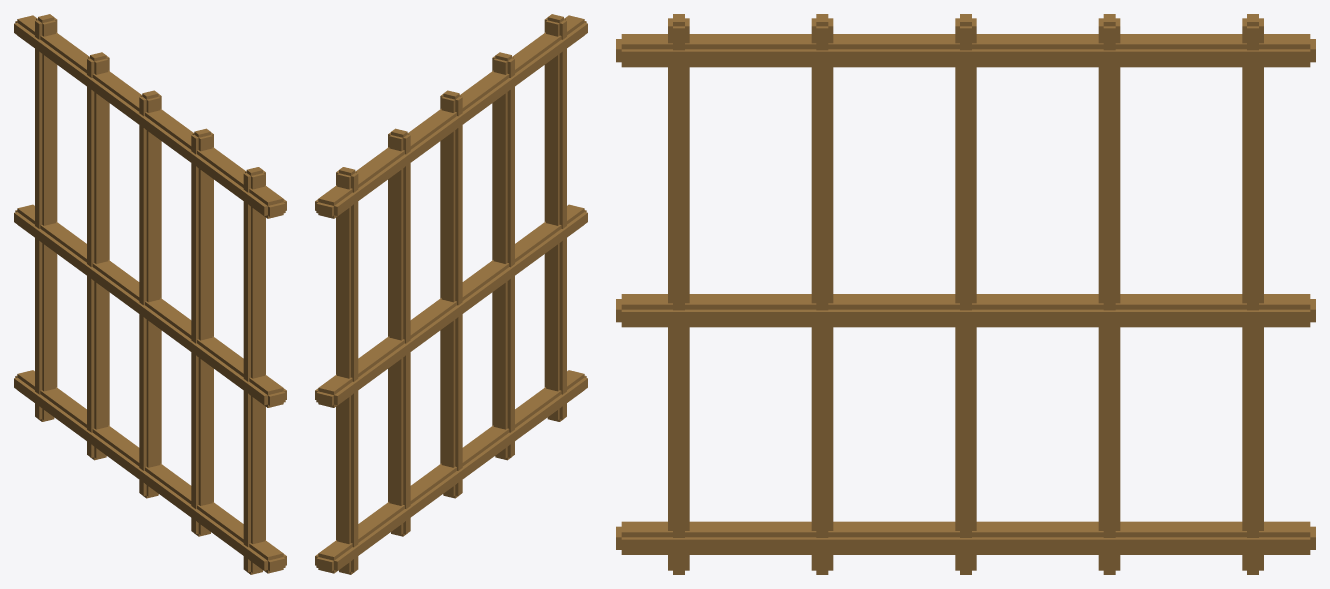
Rendered from foundry-gate-v01.glb.
The picture shows the model from 3 angles, left to right: view 1: azimuth 30°, elevation 25°; view 2: azimuth 150°, elevation 25°; view 3: azimuth 270°, elevation 25°; orthographic projection. The views are drawn at different scales.
Parts seen in each view (by area): view 1: Foundry Bronze • forged warm; view 2: Foundry Bronze • forged warm; view 3: Foundry Bronze • forged warm.
Boxes of the visible parts, x1,y1,x2,y2 form: Foundry Bronze • forged warm: (14,14,286,574); Foundry Bronze • forged warm: (315,14,587,574); Foundry Bronze • forged warm: (616,14,1315,574).
Size of the model in its own units: 0.2 by 3.4 by 3.9.
